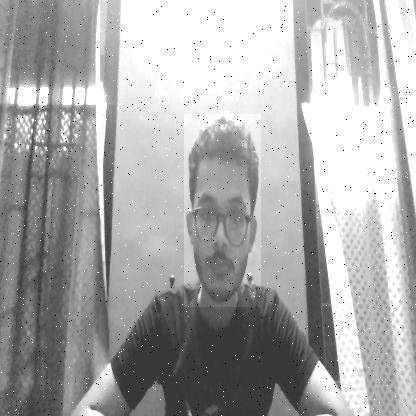Normal: (184, 114, 261, 307)
